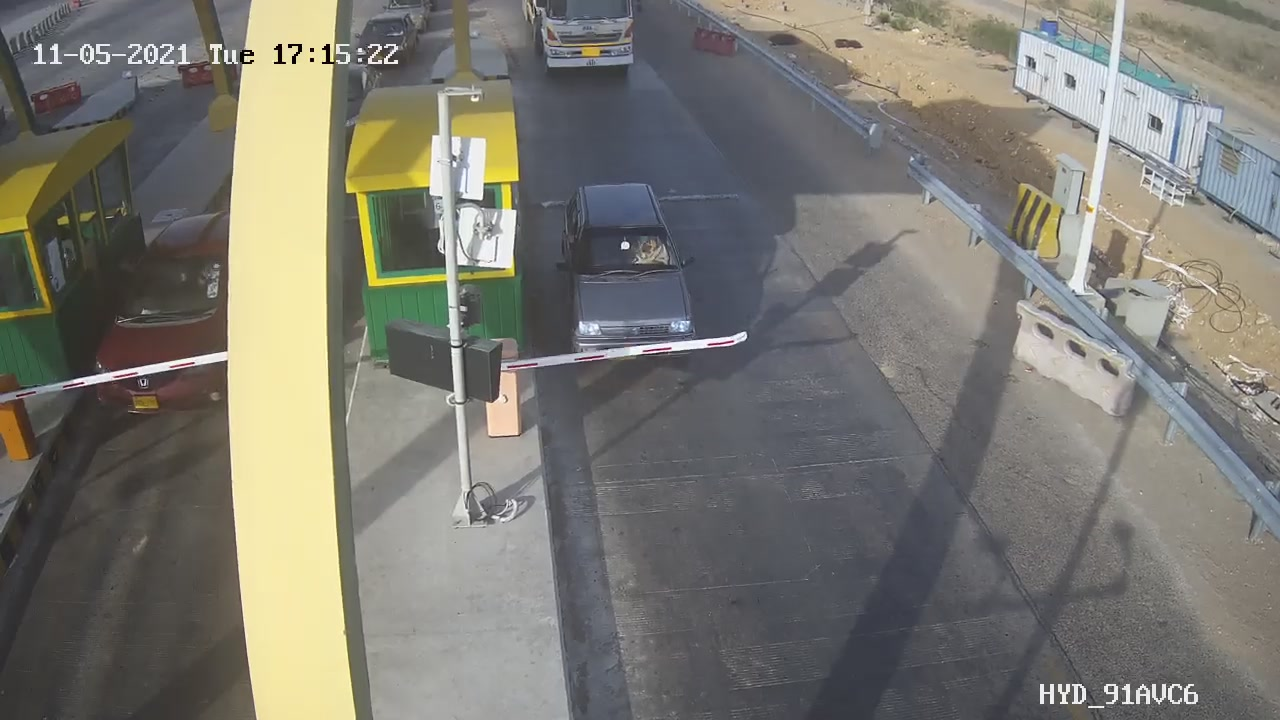F1: (534, 170, 722, 383)
